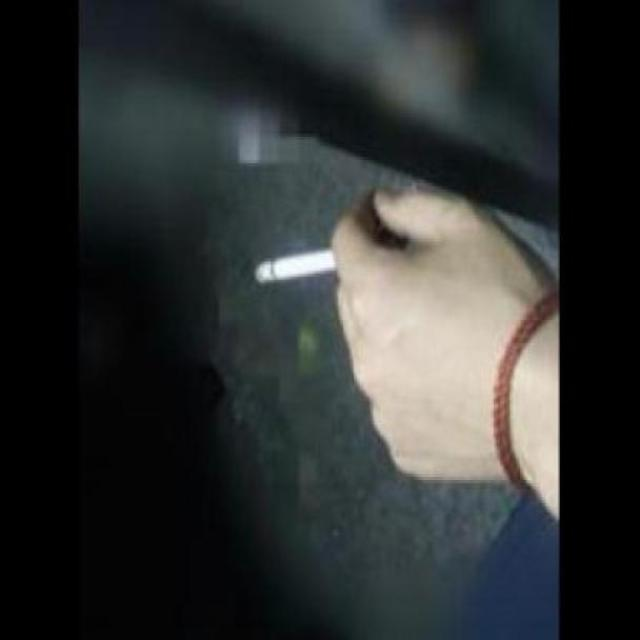rokok: (250, 244, 342, 280)
